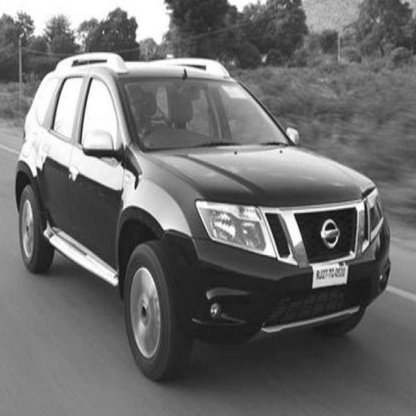car: (17, 53, 393, 381)
